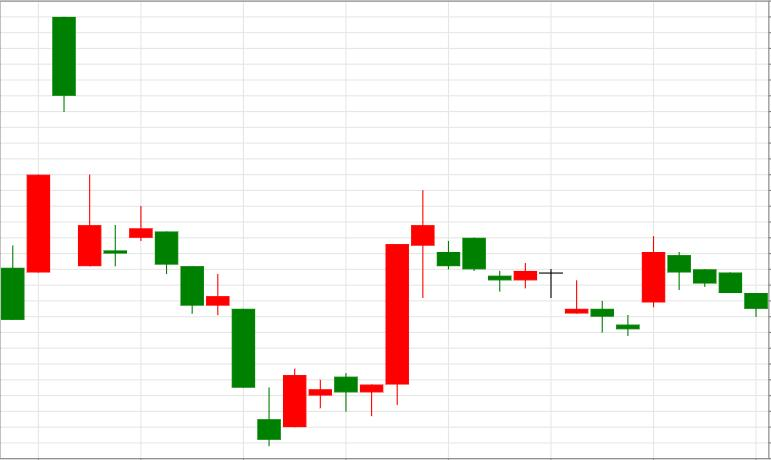morning_star_rise: (156, 231, 306, 447)
